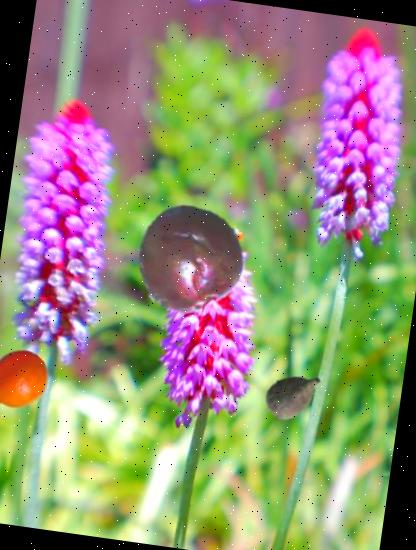Beetroot: (258, 360, 328, 430)
Passion: (126, 195, 254, 323)
Tangelo: (0, 344, 54, 417)
